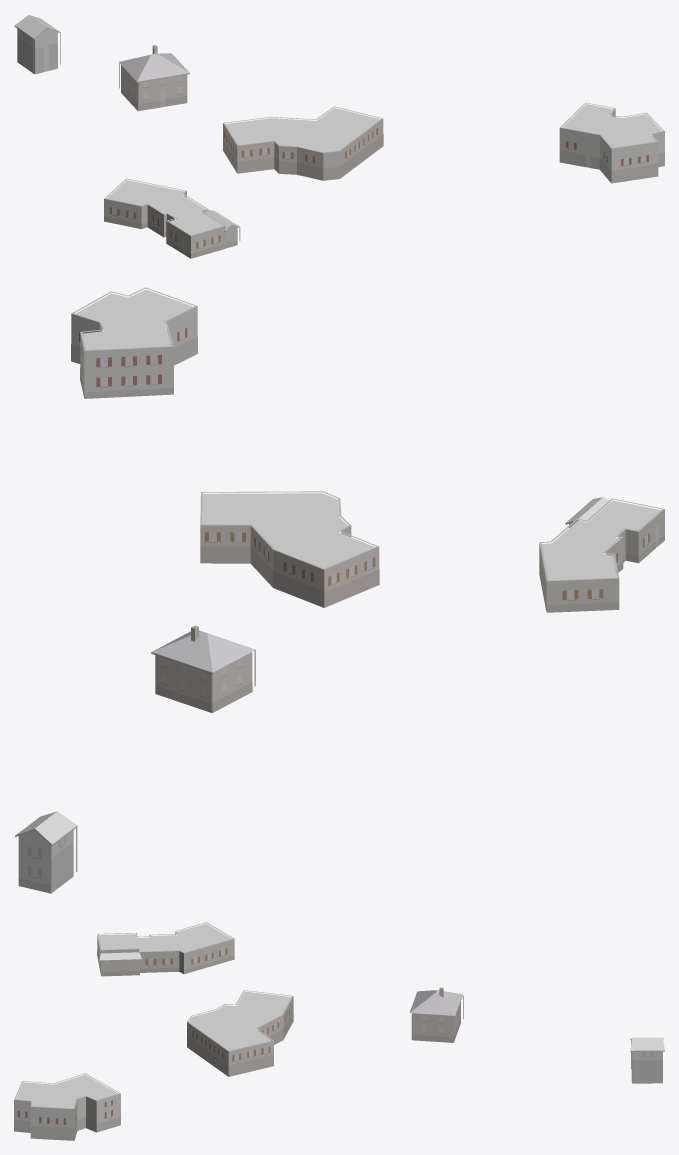
3 views of the same model, one above another, from view 1: azimuth 30°, elevation 25°; view 2: azimuth 150°, elevation 25°; view 3: azimuth 270°, elevation 25° (orthographic). The views are drawn at different scales.
Parts seen in each view (by area): view 1: bld; view 2: bld; view 3: bld.
Boxes of the visible parts, x1,y1,x2,y2 form: bld: [14, 15, 664, 258]; bld: [15, 287, 664, 893]; bld: [14, 922, 664, 1140].
Size of the model in its own units: 95.13 by 21.33 by 125.
